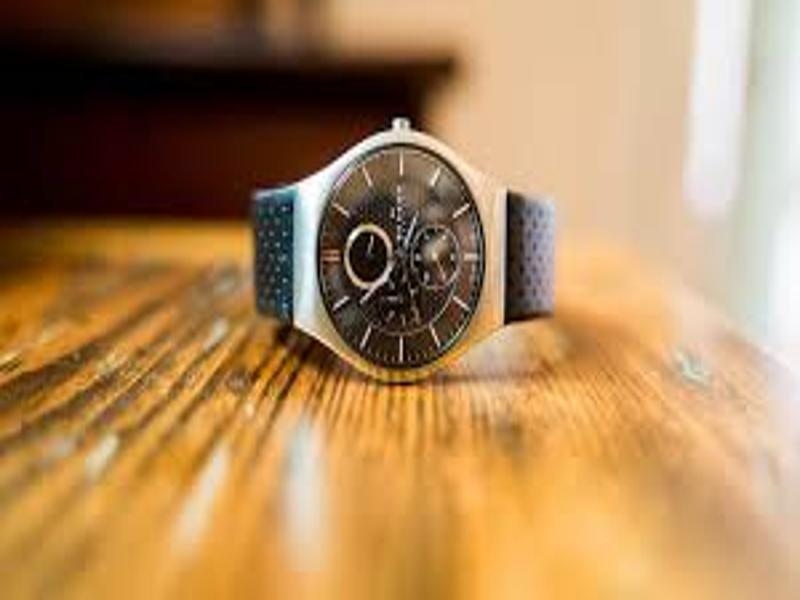watch: (249, 114, 556, 386)
